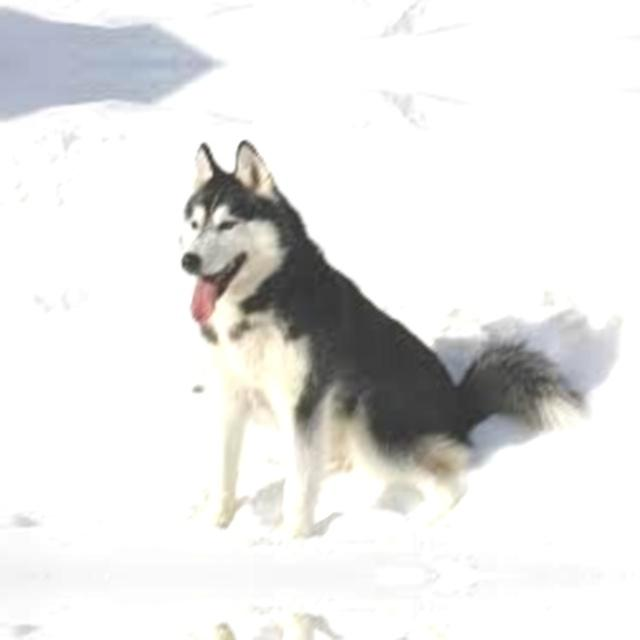dog: (121, 128, 512, 556), (122, 594, 513, 640)
